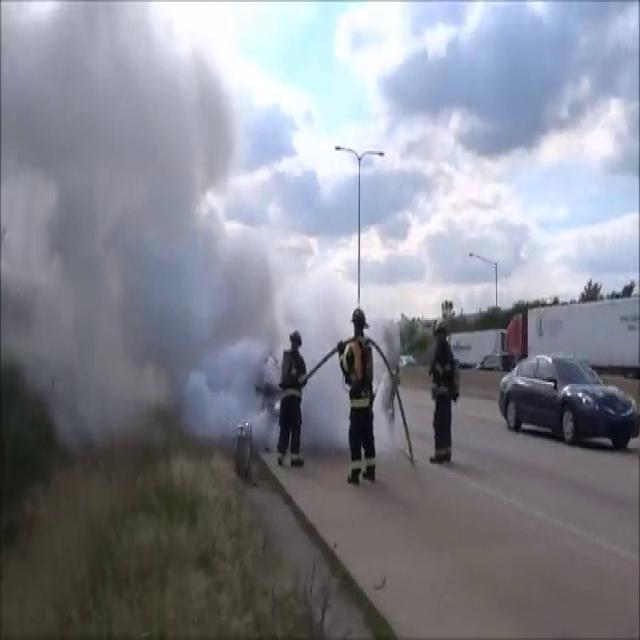Smoke: (2, 1, 276, 437)
